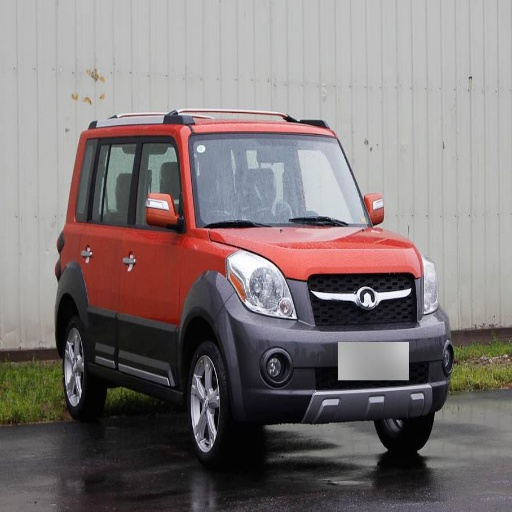front_bumper: (225, 274, 452, 423)
front_right_door: (118, 135, 187, 379)
front_right_light: (228, 251, 298, 320)
